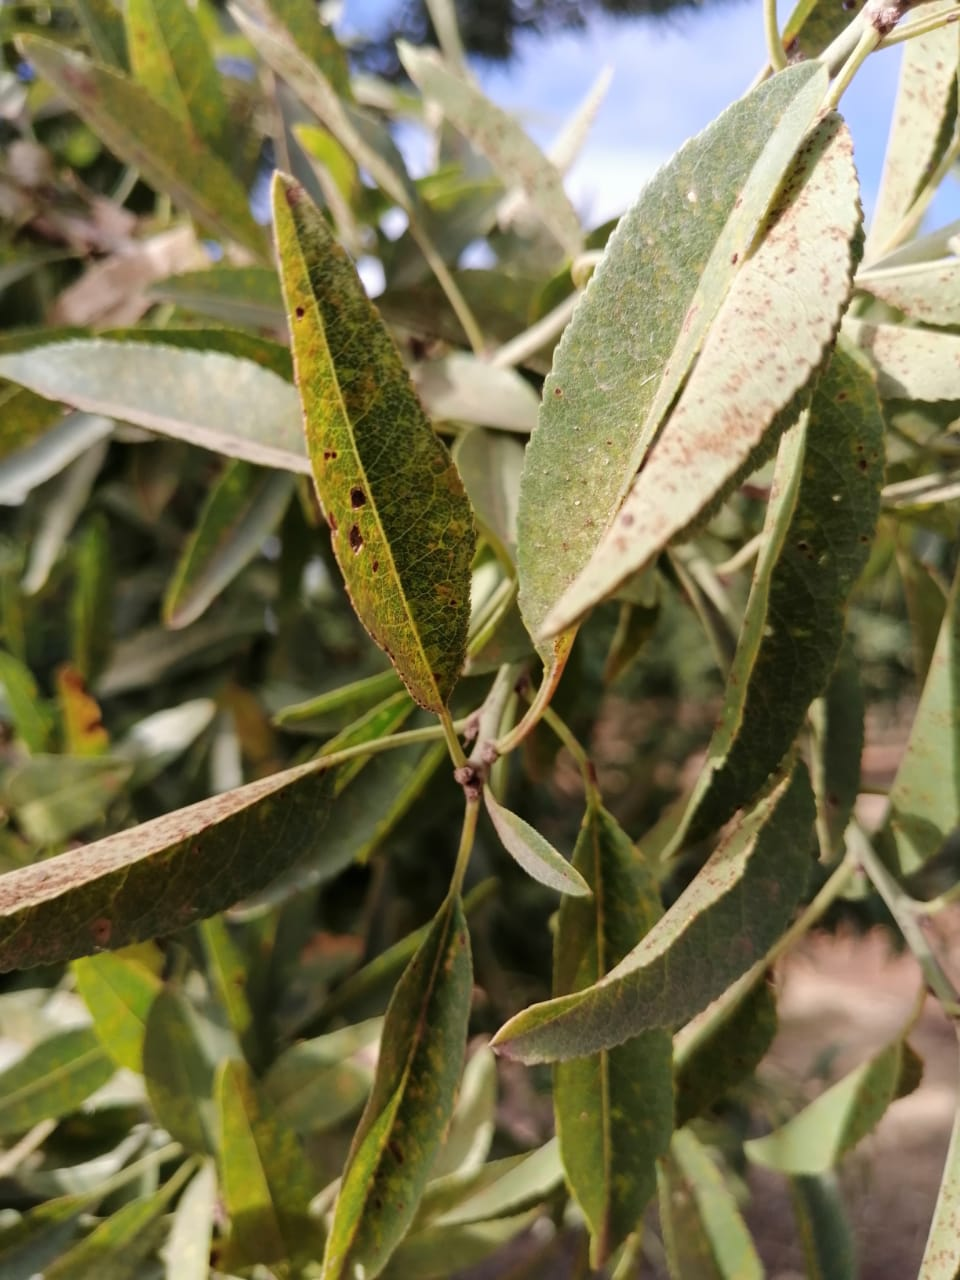rouille: (533, 95, 864, 652), (655, 327, 888, 869), (268, 169, 482, 733), (487, 750, 822, 1067), (2, 750, 345, 977), (317, 875, 475, 1280)
